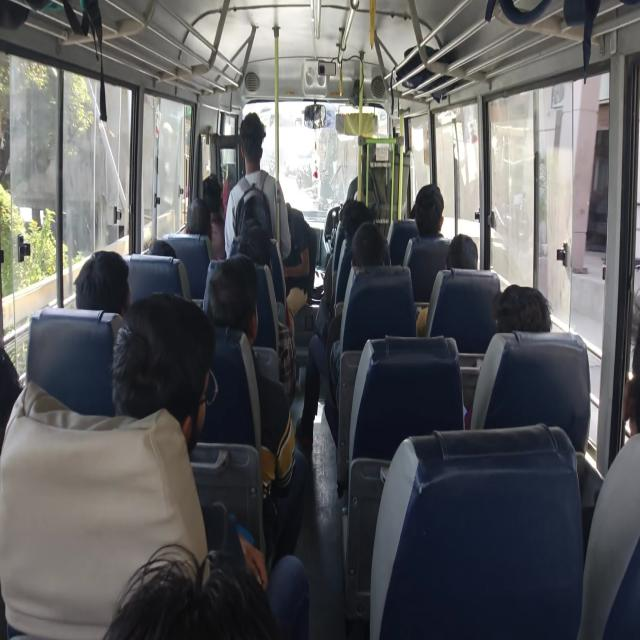person: (100, 529, 303, 640), (129, 292, 202, 415), (209, 244, 269, 353), (398, 163, 449, 237), (496, 274, 546, 334), (622, 317, 640, 463), (0, 323, 26, 416), (242, 112, 277, 172), (78, 247, 116, 301), (231, 216, 267, 270), (450, 230, 490, 270), (343, 201, 380, 236), (184, 194, 209, 242), (192, 175, 225, 203), (154, 227, 176, 265), (341, 246, 392, 262), (404, 183, 421, 222)
